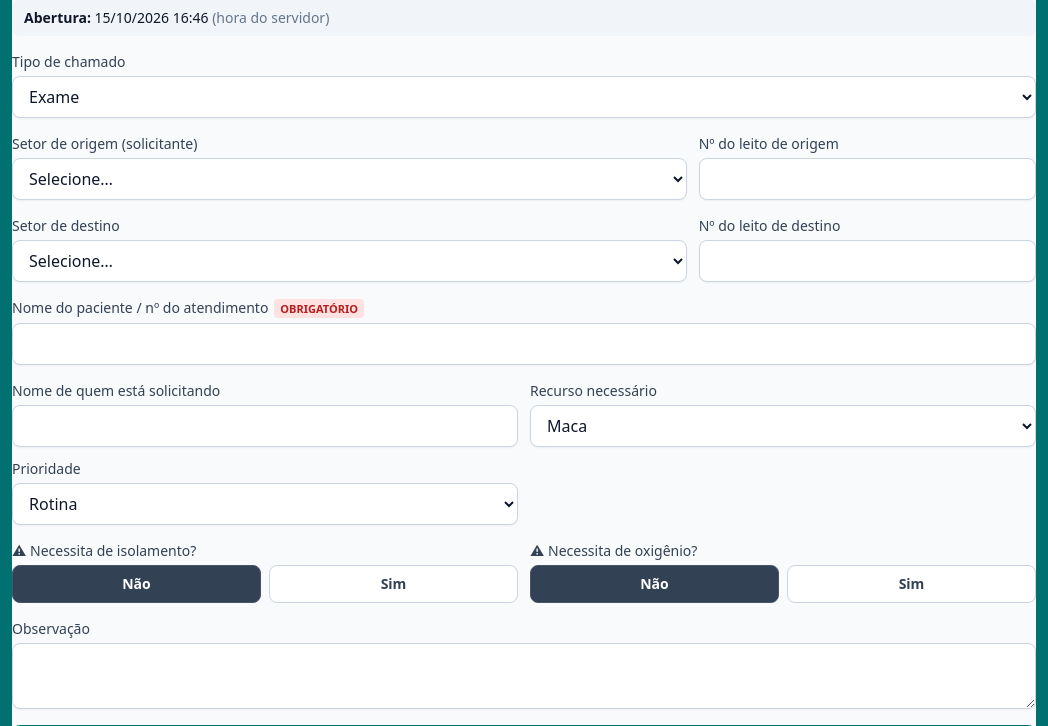
Scenario: NovoChamadoForm › marca o leito como OBRIGATÓRIO ao escolher setor da lista
This screenshot has width=1048, height=726.
Select "São José" in the dropdown labelled "Setor de origem (solicitante)". click: (349, 179)
box: [12,158,687,200]
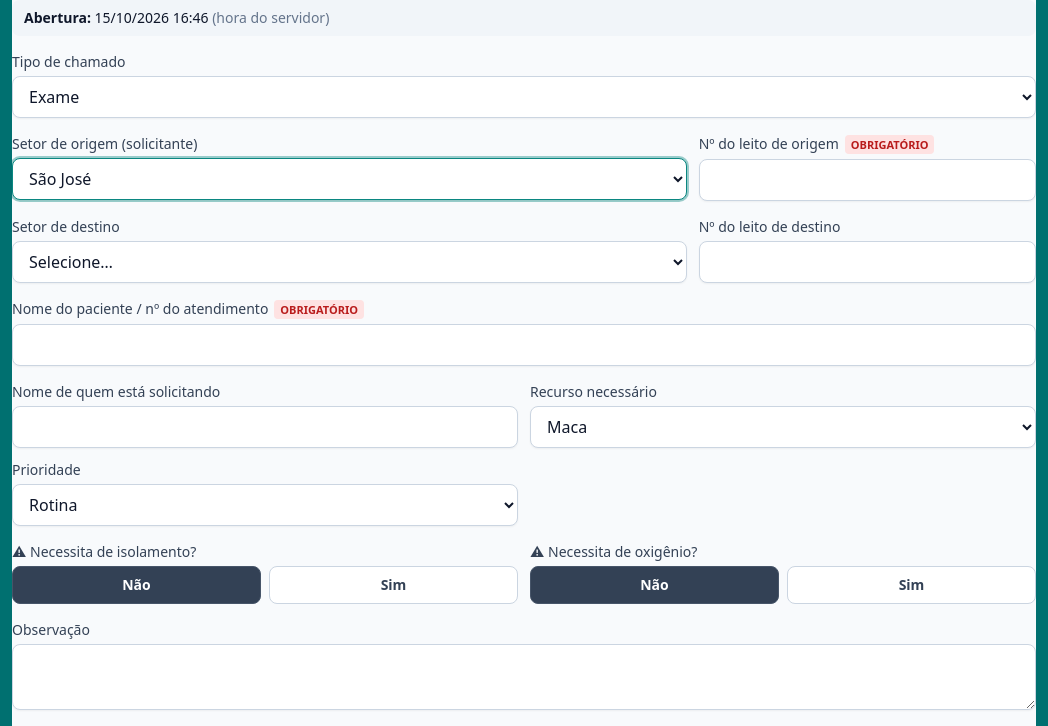
Check: the text "obrigatório" next to "Nº do leito de origem" is shown, box [851,137,928,152]
